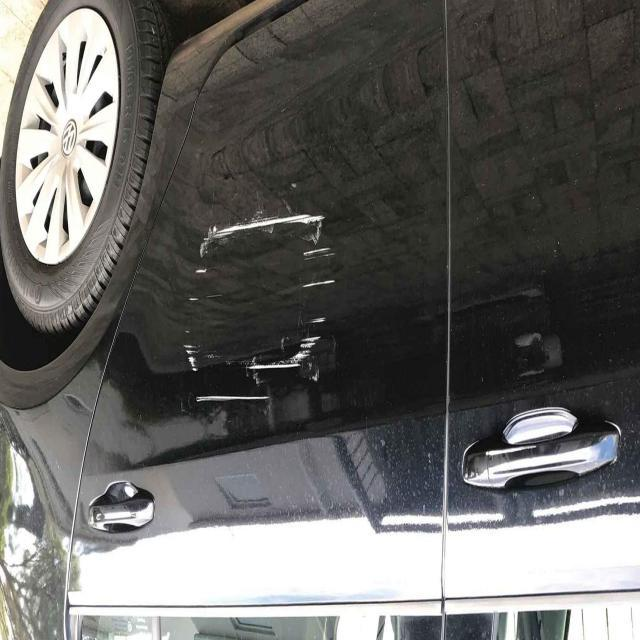scratch: (240, 270, 354, 382), (192, 192, 350, 265), (166, 286, 211, 381), (184, 388, 278, 408)
